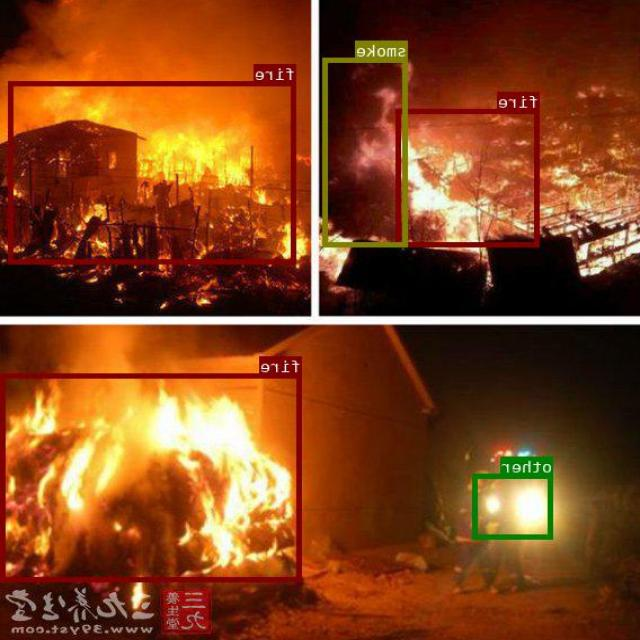fire: (2, 374, 303, 580), (10, 81, 297, 263), (397, 108, 540, 245)
other: (474, 474, 554, 538)
smoke: (324, 58, 408, 246)
